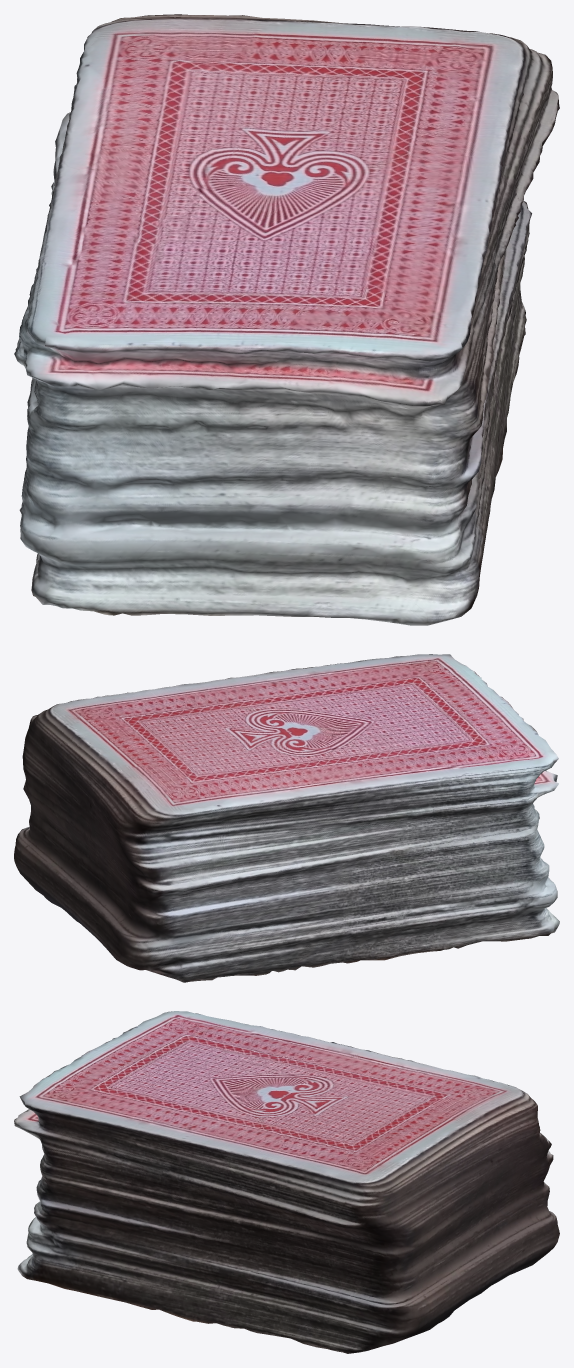
Rendered from stack_of_cards.glb.
The picture shows the model from 3 angles, top to bottom: view 1: azimuth 30°, elevation 25°; view 2: azimuth 150°, elevation 25°; view 3: azimuth 270°, elevation 25°; orthographic projection. The views are drawn at different scales.
Visible parts, largest first — view 1: Object_4; view 2: Object_4; view 3: Object_4.
Boxes of the visible parts, bbox=[...] form: Object_4: bbox=[14, 14, 559, 625]; Object_4: bbox=[14, 654, 559, 982]; Object_4: bbox=[14, 1011, 559, 1353].
Size of the model in its own units: 0.4067 by 0.1855 by 0.4489.
1 material, 1 textured.
